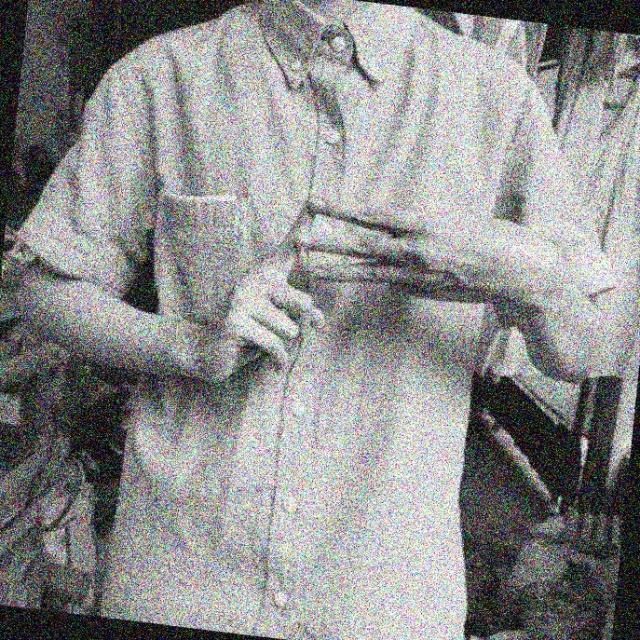B: (219, 190, 463, 367)
